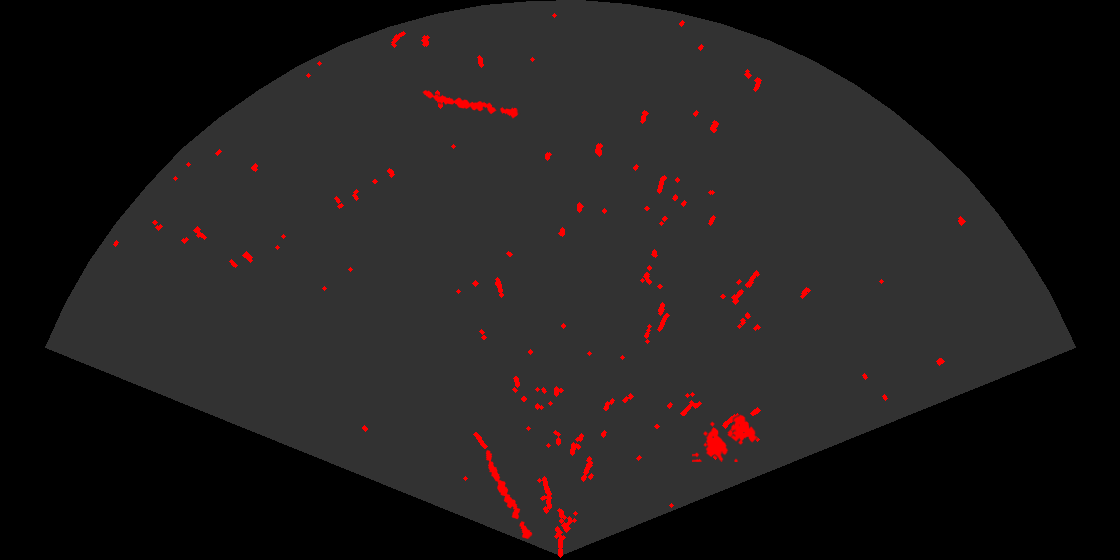cage: (692, 413, 759, 462)
chain: (484, 448, 534, 541), (421, 89, 521, 120)
